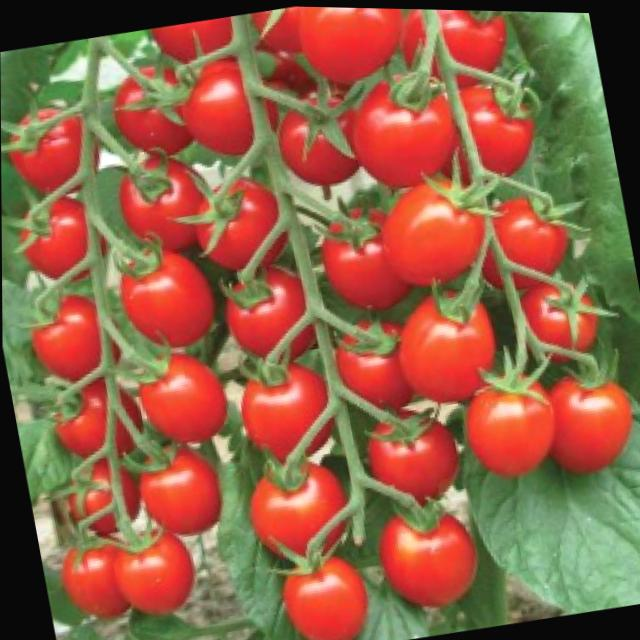tomato: (336, 63, 465, 197), (239, 452, 363, 581), (390, 282, 507, 412), (373, 172, 495, 293), (108, 136, 224, 261), (112, 241, 224, 360), (374, 501, 486, 618), (183, 169, 292, 286), (457, 369, 566, 483), (536, 362, 640, 480), (232, 357, 342, 467), (310, 206, 412, 321), (130, 345, 236, 454), (514, 252, 618, 363), (448, 61, 544, 181), (359, 402, 463, 508), (269, 92, 366, 205), (216, 259, 316, 364), (130, 436, 227, 543), (171, 52, 260, 168), (294, 5, 411, 93), (1, 106, 100, 205), (327, 317, 418, 422), (12, 179, 100, 287), (107, 66, 201, 166), (24, 289, 111, 392), (487, 189, 575, 285), (275, 557, 376, 640), (430, 8, 515, 81), (50, 376, 120, 464), (148, 13, 239, 71), (258, 42, 318, 102), (324, 195, 390, 241)
